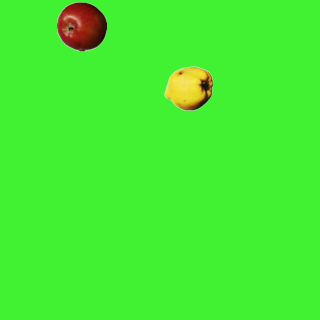Apple Braeburn: (56, 1, 106, 51)
Quince: (163, 63, 213, 113)
